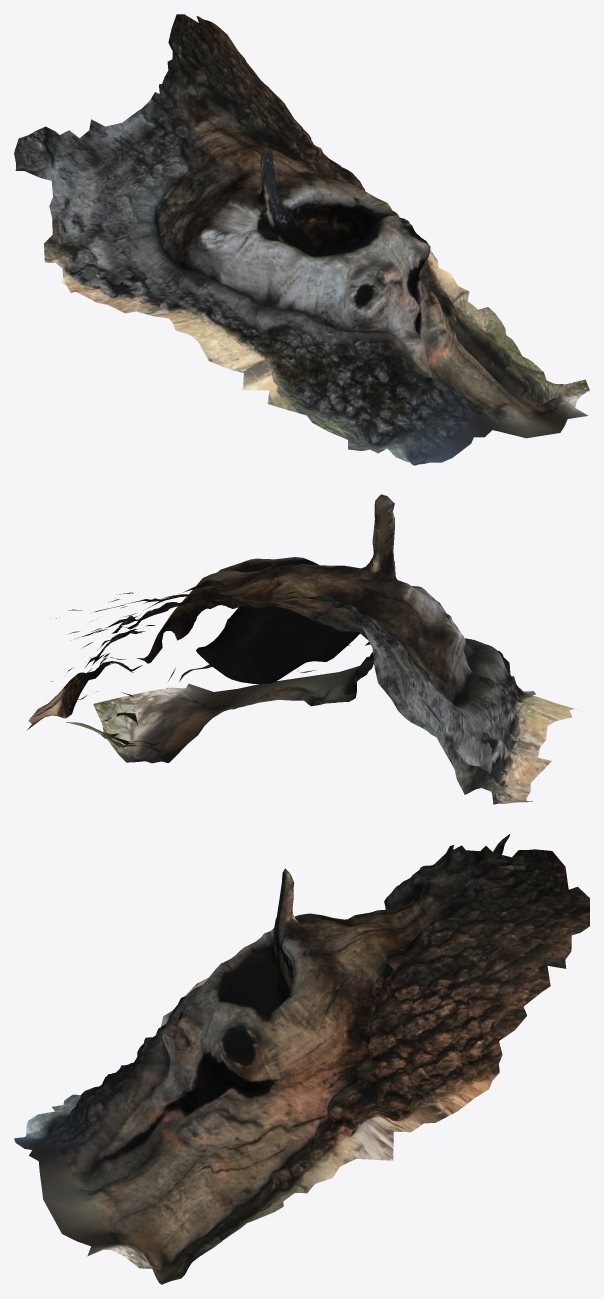
File: model19_prev.glb
The picture shows the model from 3 angles, top to bottom: view 1: azimuth 30°, elevation 25°; view 2: azimuth 150°, elevation 25°; view 3: azimuth 270°, elevation 25°; orthographic projection. The views are drawn at different scales.
Bounding box in the file's own units: 6.32 × 4.57 × 7.15.
Materials: 1 (1 with a texture image).
